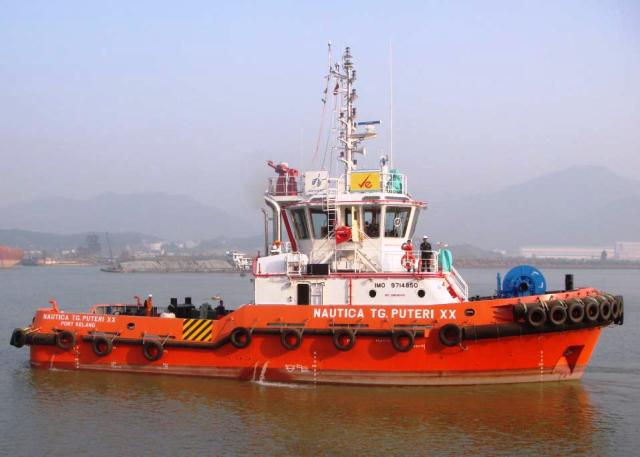otherboat: (12, 44, 634, 385)
